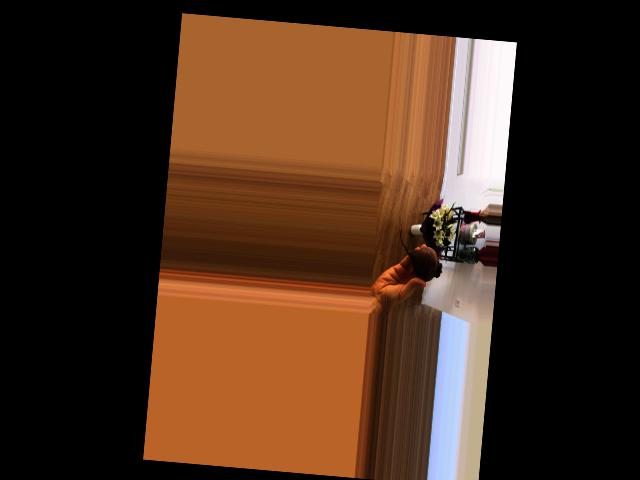beet: (396, 227, 445, 282)
